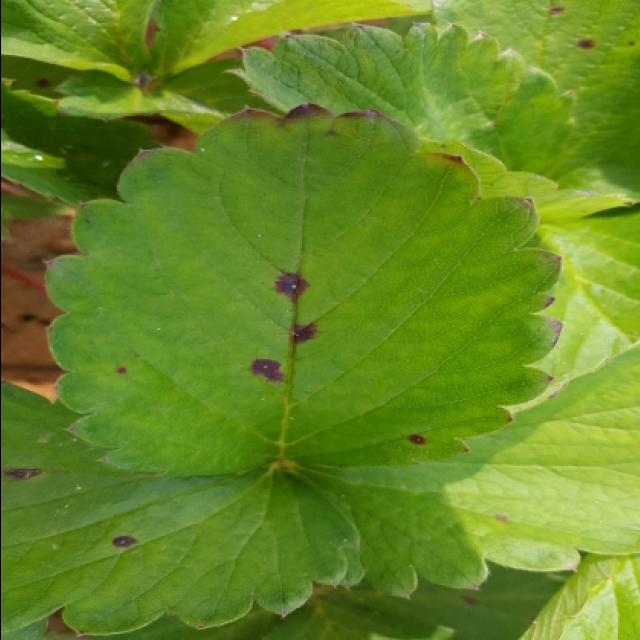Leaf Spot: (42, 101, 564, 479), (2, 379, 367, 637), (291, 338, 640, 600), (430, 2, 640, 178), (316, 561, 570, 640), (2, 57, 74, 100)
